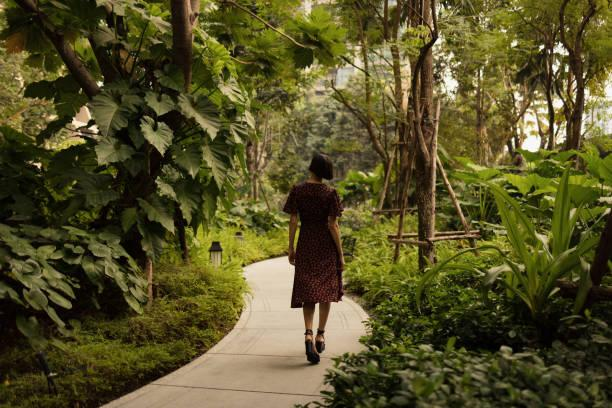Non_Gorille: (224, 112, 500, 407)
